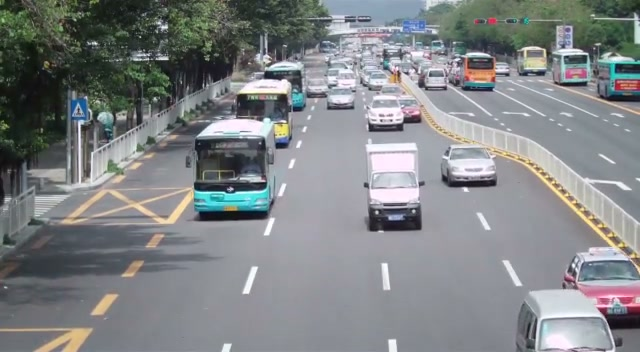bus: (192, 118, 278, 217), (235, 78, 293, 147), (263, 61, 306, 111), (595, 55, 640, 100), (552, 48, 591, 86), (463, 52, 497, 90), (517, 46, 548, 76)
car: (513, 288, 622, 352), (561, 247, 640, 319), (363, 140, 424, 231), (439, 145, 498, 187), (365, 96, 405, 132), (396, 97, 422, 123), (326, 87, 355, 109), (360, 70, 389, 90), (423, 68, 448, 91), (495, 63, 510, 76)
truck: (363, 141, 424, 231), (517, 46, 548, 77)
